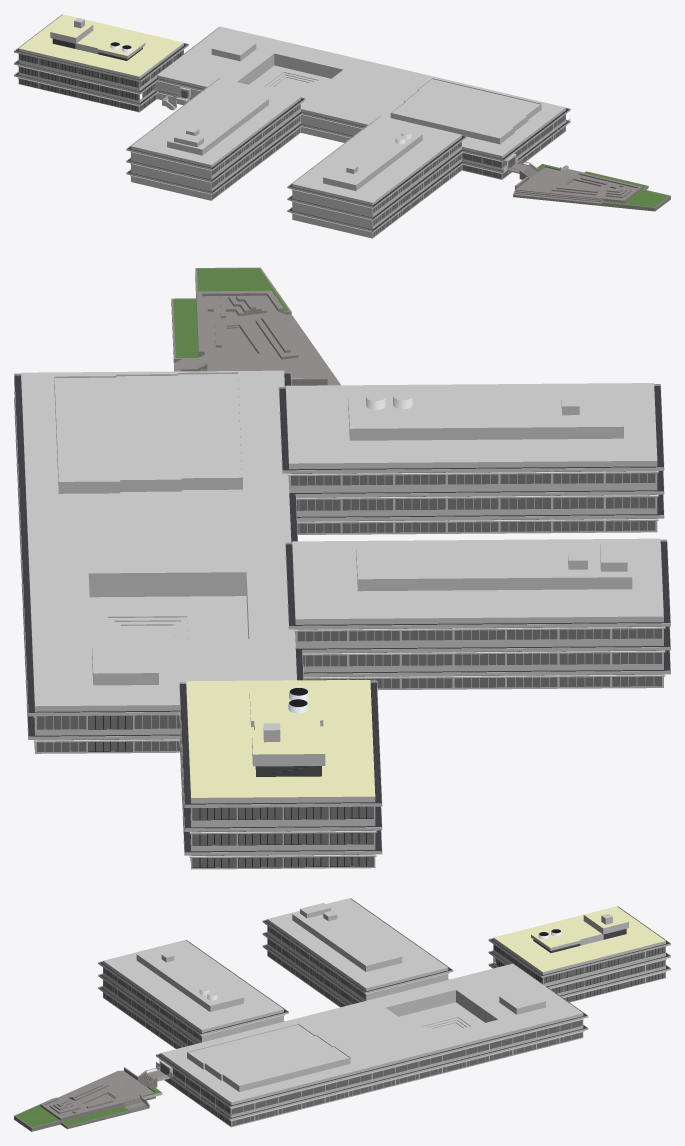
3 views of the same model, one above another, from view 1: azimuth 30°, elevation 25°; view 2: azimuth 150°, elevation 25°; view 3: azimuth 270°, elevation 25° (orthographic). The views are drawn at different scales.
Visible parts, largest first — view 1: Sketchup.001; view 2: Sketchup.001; view 3: Sketchup.001.
Boxes of the visible parts, x1,y1,x2,y2 form: Sketchup.001: (14,14,670,238); Sketchup.001: (14,267,670,857); Sketchup.001: (14,898,670,1131).
Size of the model in its own units: 137 by 18 by 192.
Materials: 10 (6 with a texture image).
